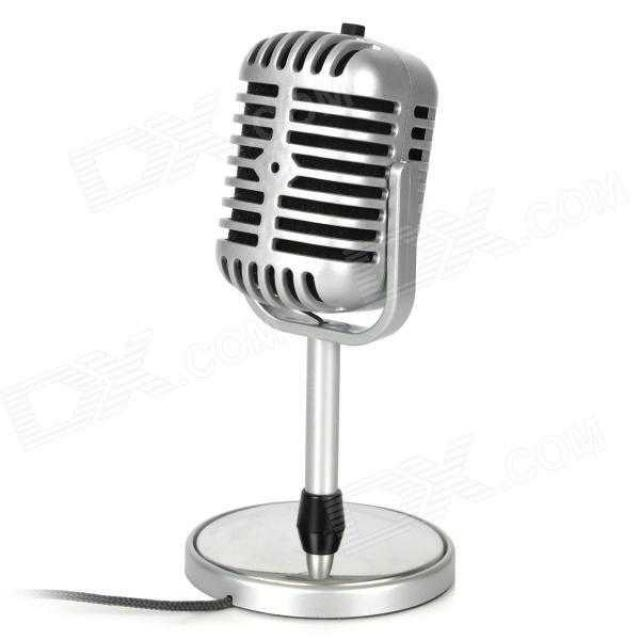microphone: (192, 28, 444, 610)
